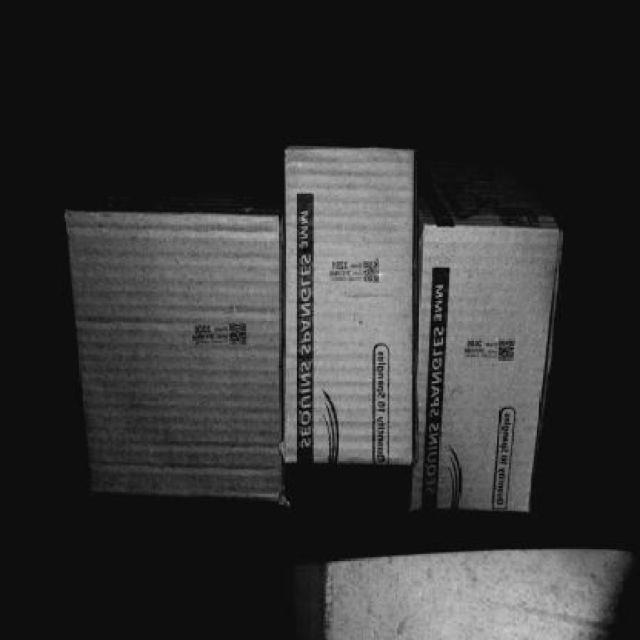cardboxes: (73, 206, 276, 517), (411, 229, 562, 514), (284, 150, 408, 462)
